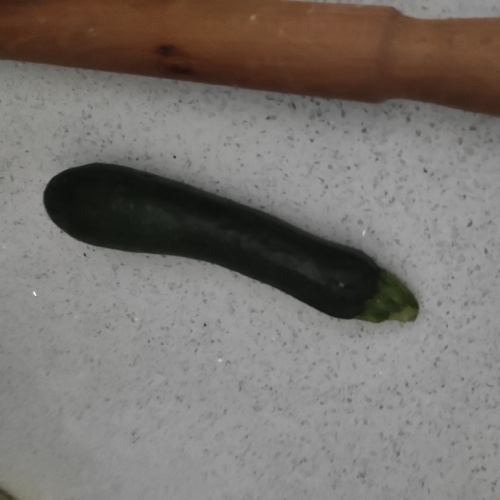zucchine: (49, 155, 420, 351)
